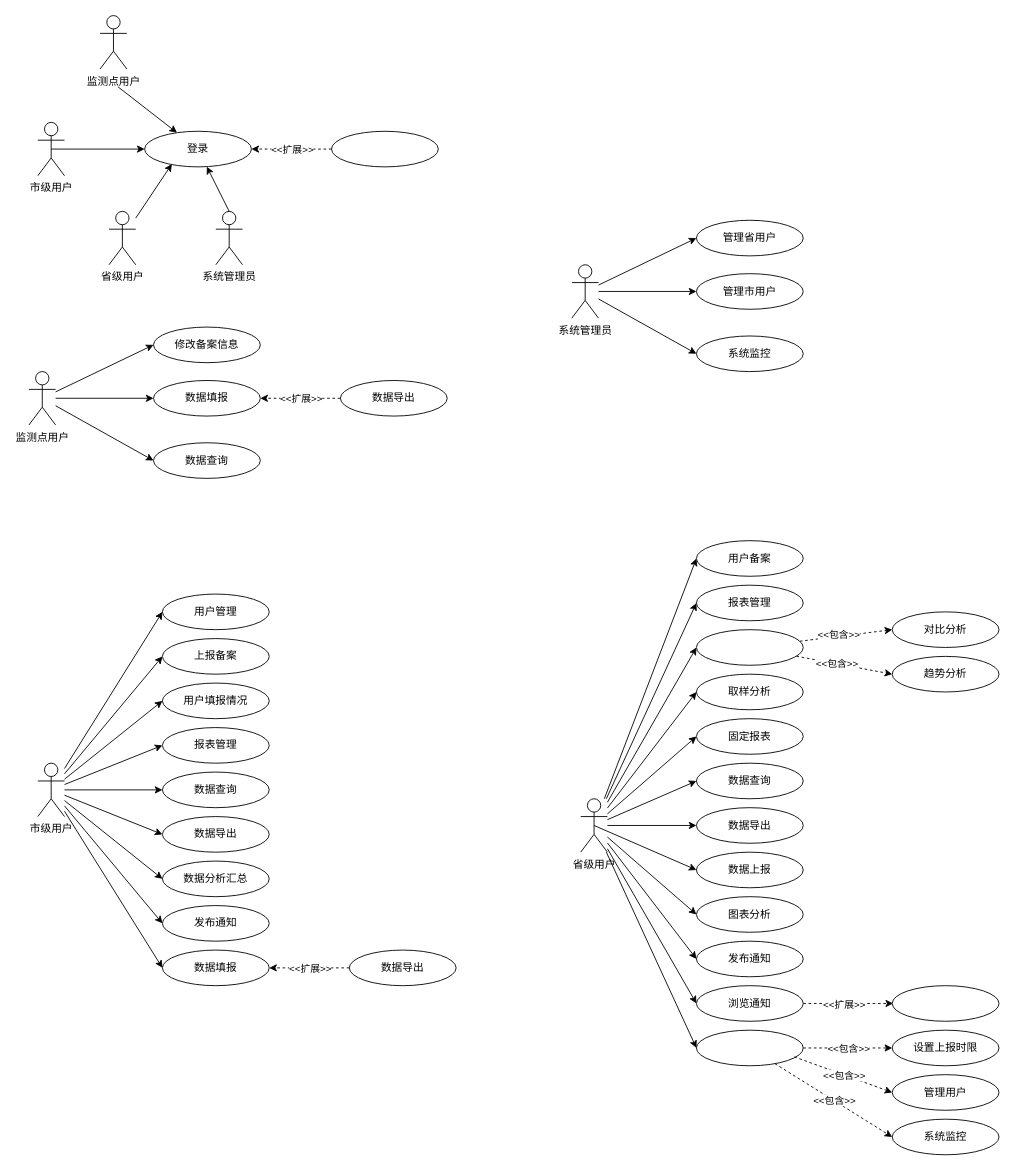
Some shapes in this 1015 by 1170 pixel diagram are drawn without their labels. The shapes that lost their labels are listed below. From the top down, each one's box as (x1, y1, x2, y2) in pixels, then its label:
(331, 130, 438, 167): 修改密码
(696, 629, 803, 665): 数据汇总
(891, 985, 999, 1021): 删除通知
(696, 1029, 803, 1066): 系统管理
